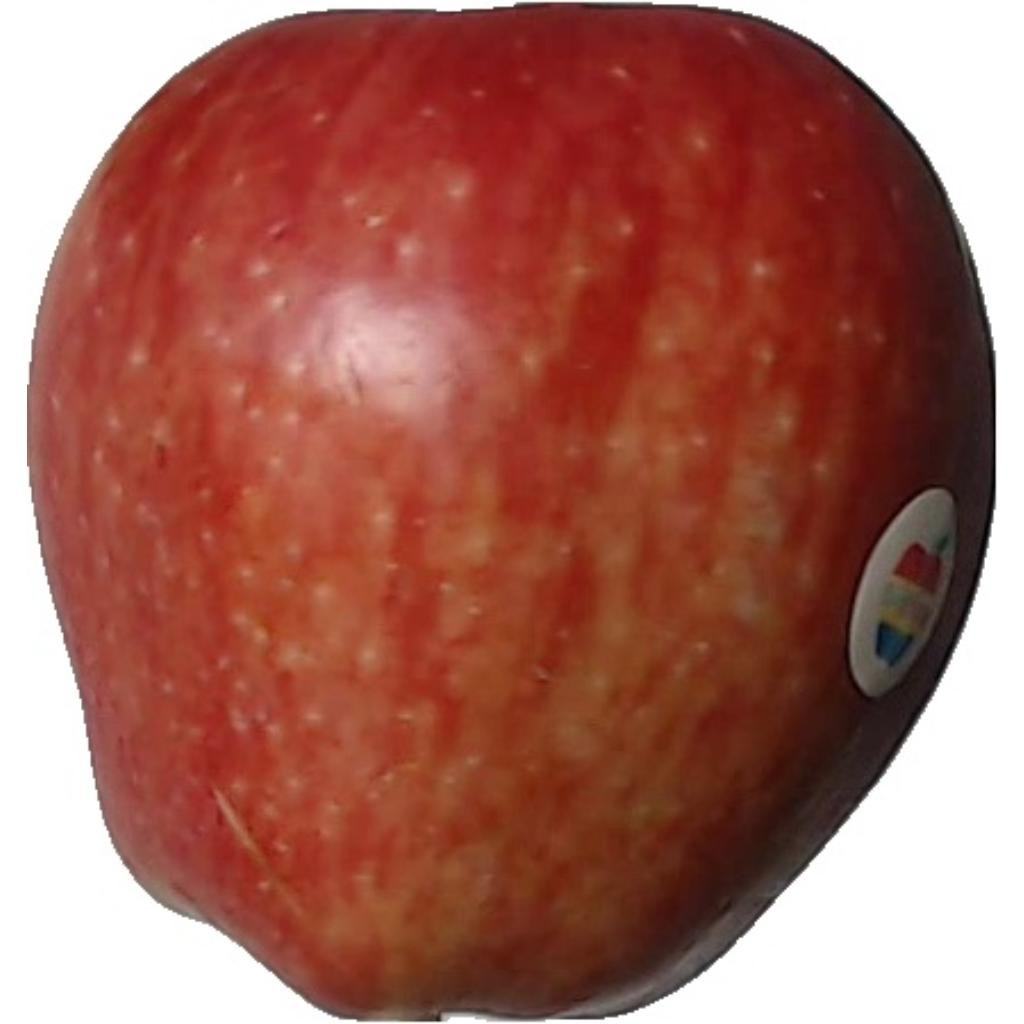apple: (26, 5, 998, 1024)
